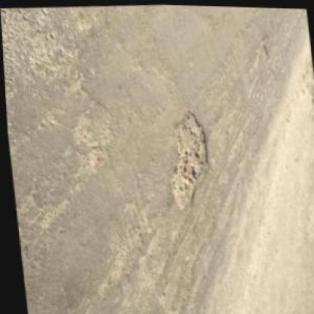Hueco: (160, 107, 213, 213), (248, 35, 271, 65)
